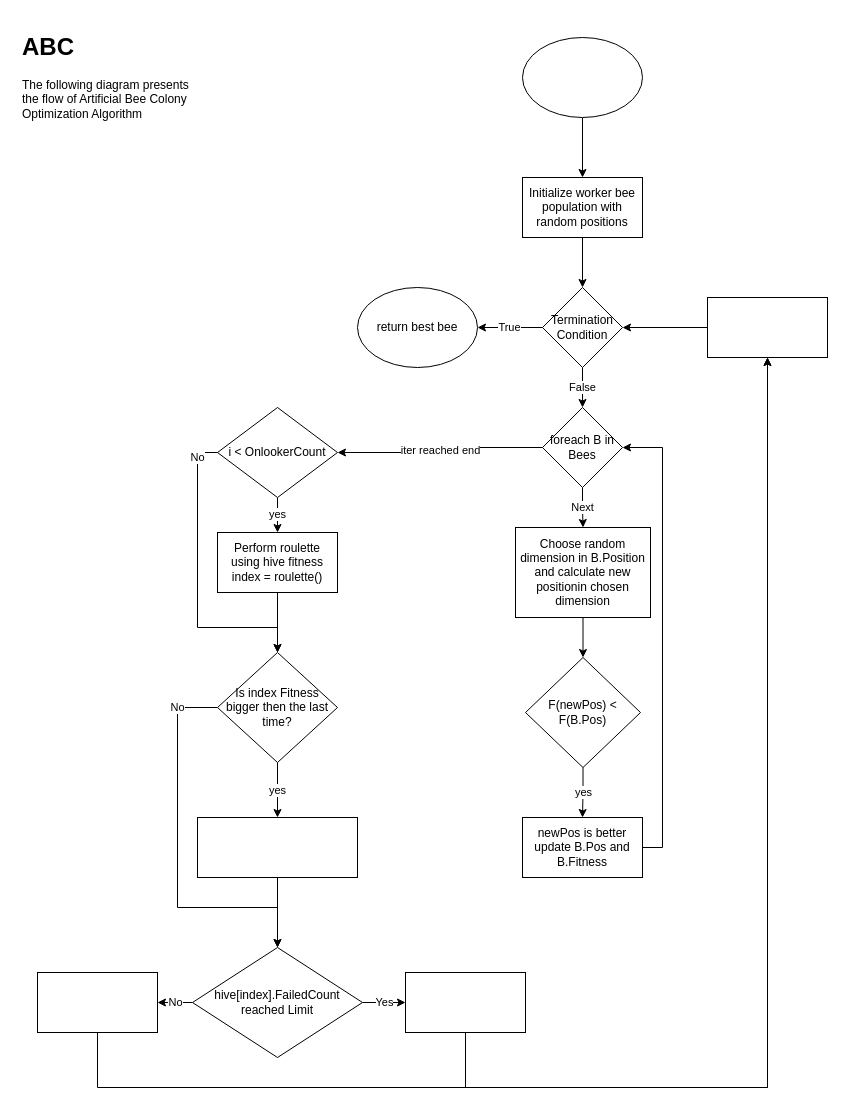
Some shapes in this 845 by 1113 pixel diagram are drawn without their labels. Here are the shapes that lost their labels. From the top down, the centre of each, then its label:
At point (582, 77): "Start".
At point (767, 327): "Update current best bee".
At point (277, 847): "Add 1 to hive[index].FailedCount".
At point (97, 1002): "Update lastFitness".
At point (465, 1002): "Randomize position".
